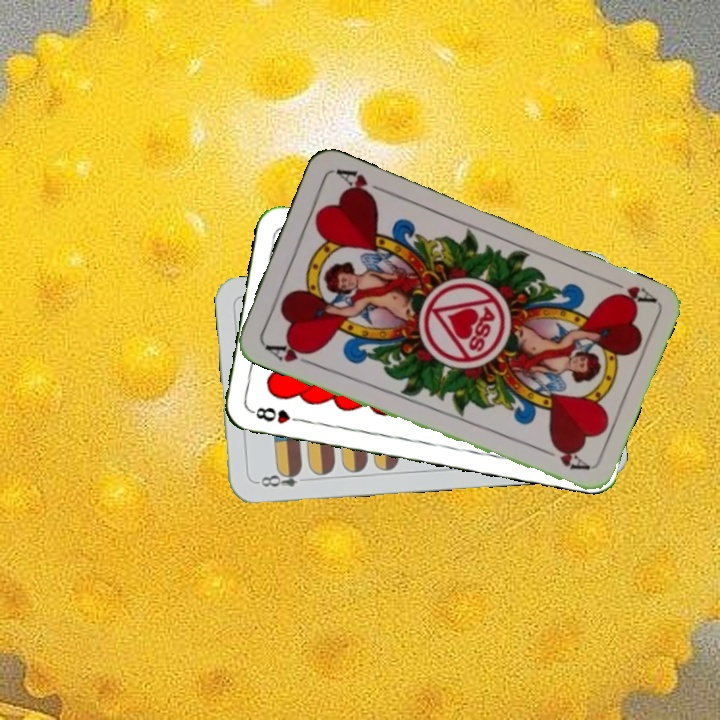E8: (253, 465, 304, 490)
H8: (247, 403, 306, 426)
HA: (600, 274, 657, 310), (261, 338, 318, 368)
